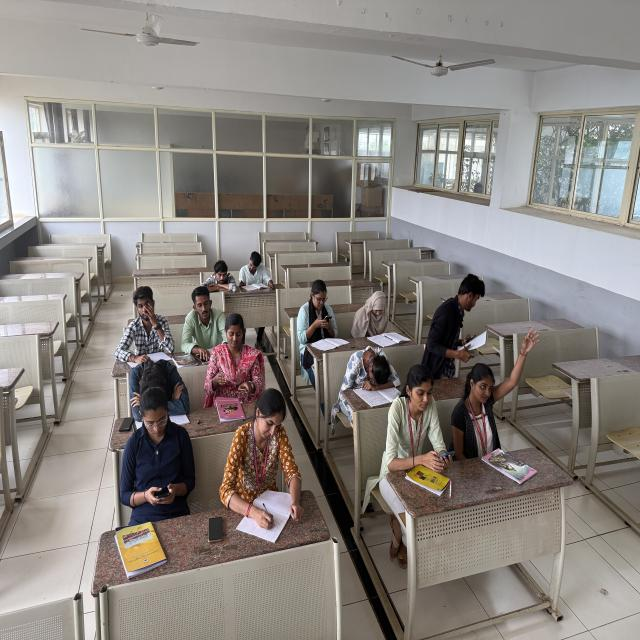Hand Rising: (448, 314, 543, 445)
Reading: (348, 290, 408, 346), (236, 251, 278, 298)
Sleeping: (122, 357, 194, 420), (340, 342, 403, 396)
Using Phone: (112, 388, 200, 514), (380, 360, 459, 468), (294, 280, 344, 347)
Writing: (223, 392, 312, 537)
